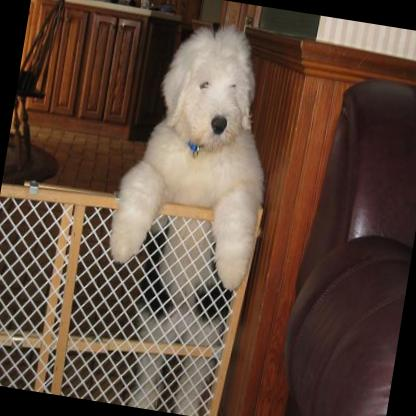Old_English_sheepdog: (81, 6, 291, 416)
